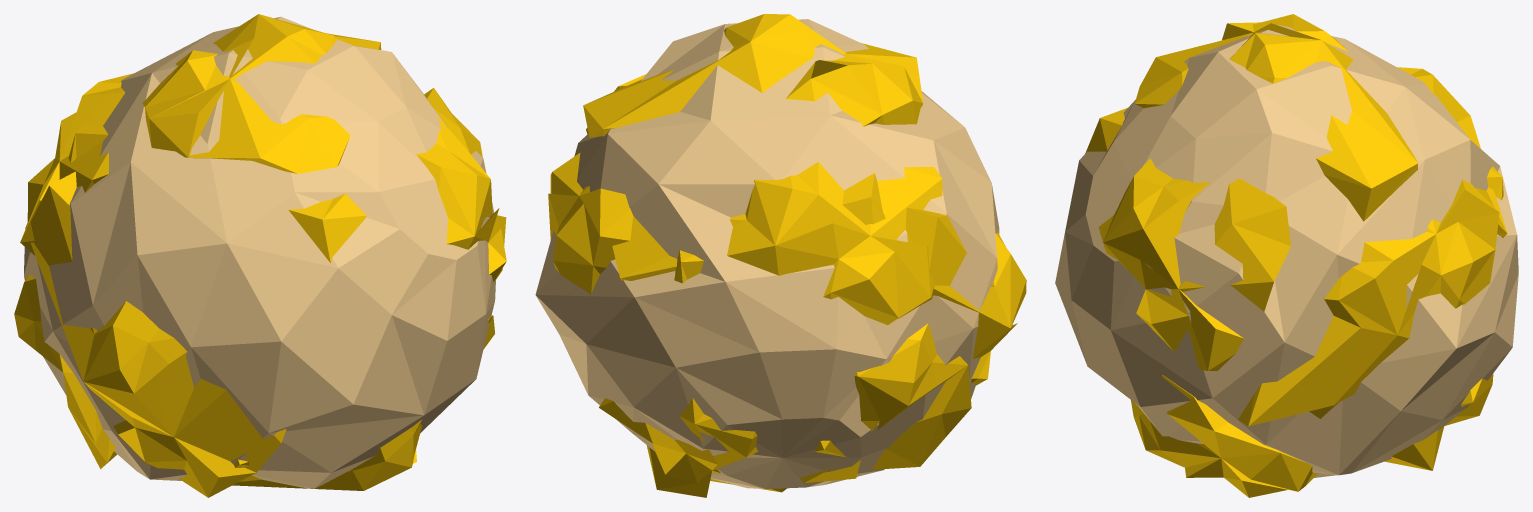
File: venus.gltf
3 views of the same model, side by side, from view 1: azimuth 30°, elevation 25°; view 2: azimuth 150°, elevation 25°; view 3: azimuth 270°, elevation 25° (orthographic). The views are drawn at different scales.
Parts seen in each view (by area): view 1: model.001, model.120, model.125, model.124, model.122, model.121, model.119; view 2: model.001, model.122, model.125, model.121, model.123, model.120, model.126; view 3: model.001, model.123, model.124, model.125, model.119, model.126, model.122.
Part boxes in pixels (box(x1,y1,x2,y2)): model.001: box(24, 16, 495, 488); model.120: box(30, 171, 286, 497); model.125: box(142, 14, 381, 173); model.124: box(288, 88, 506, 282); model.122: box(20, 73, 133, 255); model.121: box(14, 125, 117, 468); model.119: box(232, 315, 494, 490); model.001: box(535, 19, 999, 488); model.122: box(612, 162, 942, 325); model.125: box(583, 14, 923, 137); model.121: box(800, 173, 971, 482); model.123: box(548, 153, 633, 293); model.120: box(905, 207, 1026, 385); model.126: box(599, 250, 786, 497); model.001: box(1055, 25, 1518, 477); model.123: box(1238, 179, 1499, 426); model.124: box(1085, 108, 1290, 370); model.125: box(1134, 14, 1418, 221); model.119: box(1131, 375, 1317, 497); model.126: box(1385, 166, 1503, 470); model.122: box(1397, 67, 1507, 237).
Size of the model in its own units: 2.46 by 2.57 by 2.47.
